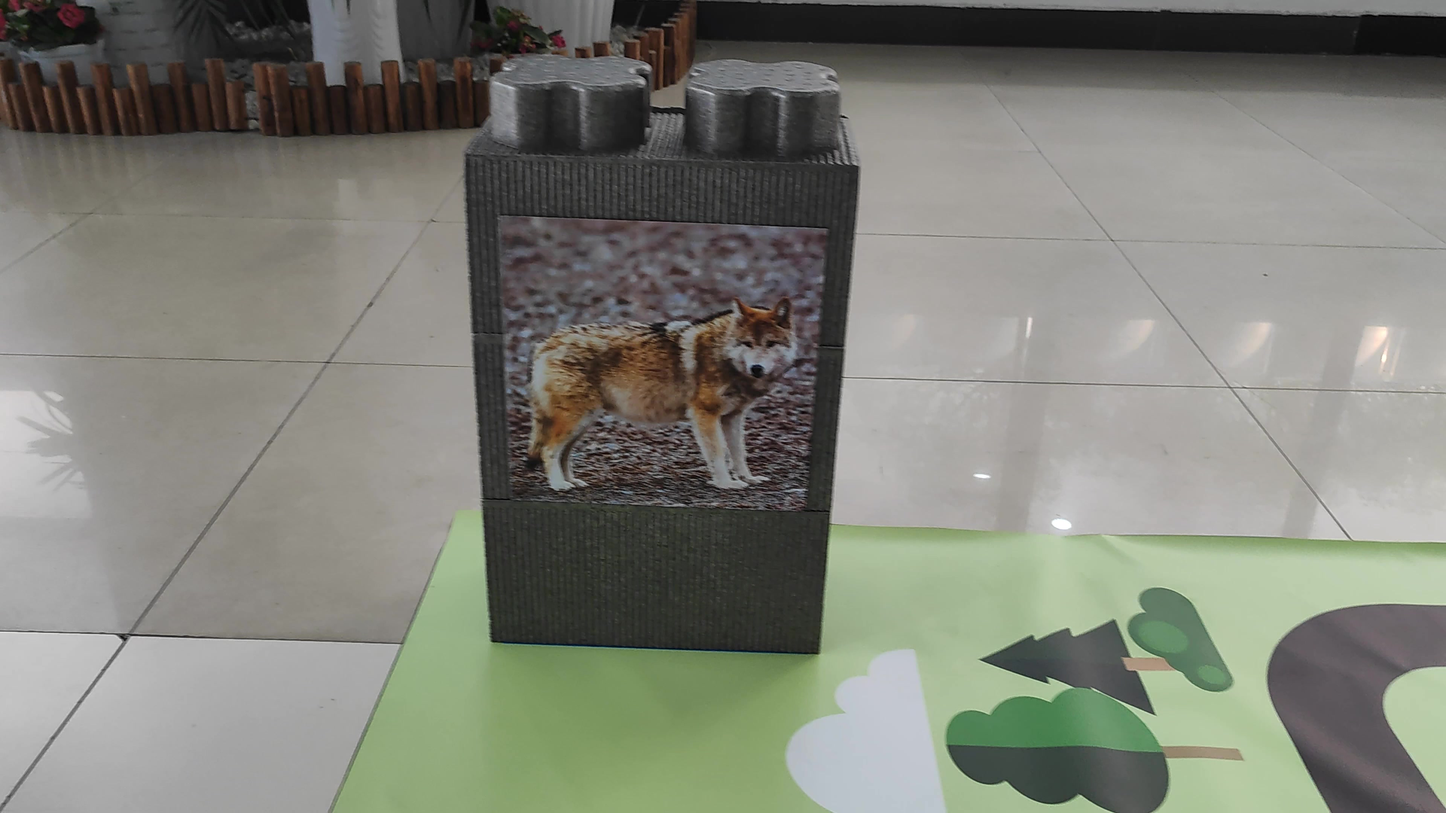wolf: (525, 281, 815, 515)
